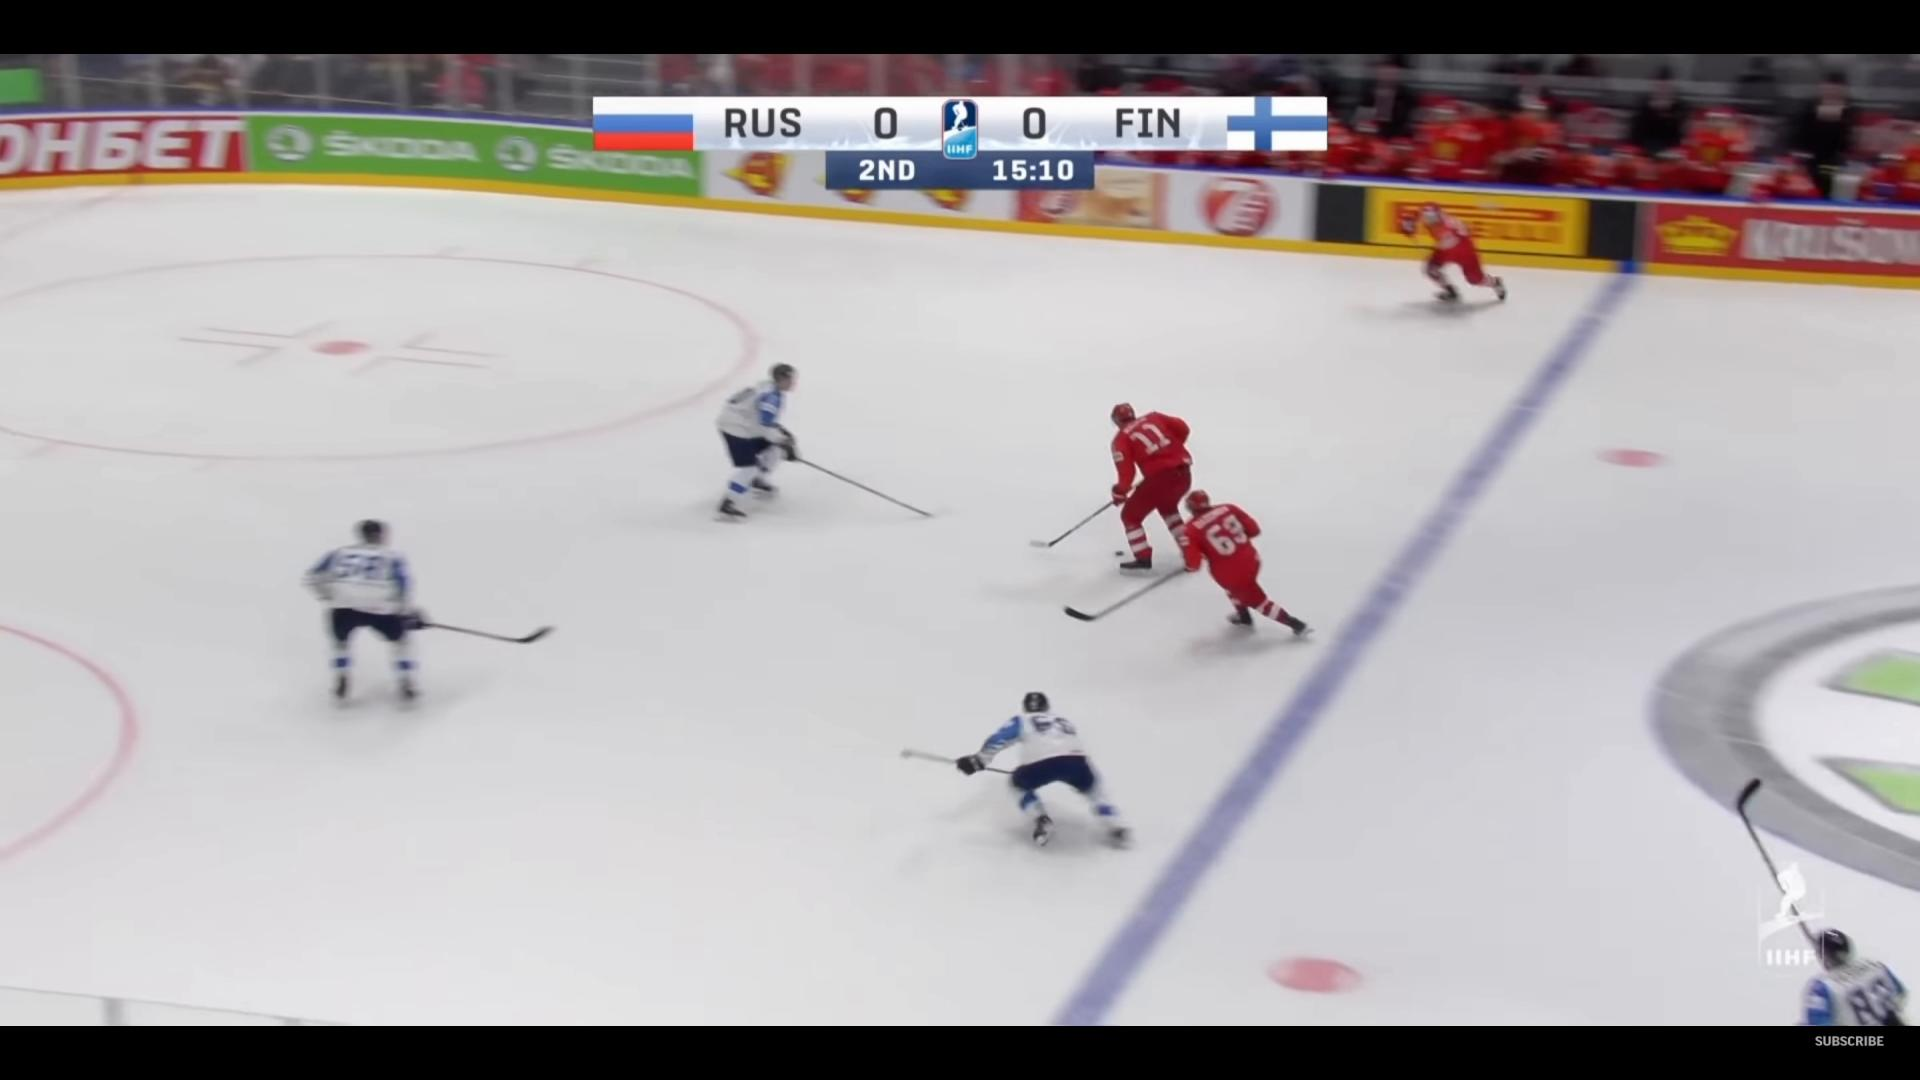puck: (1113, 550, 1124, 556)
